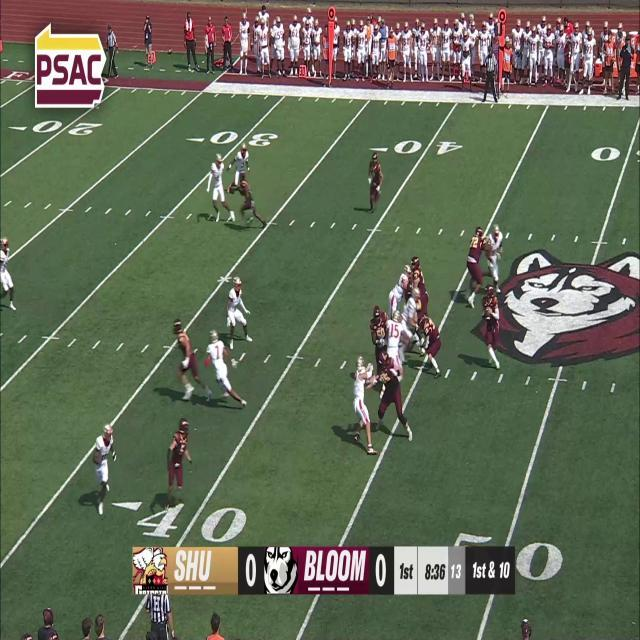football: (484, 308, 492, 324)
